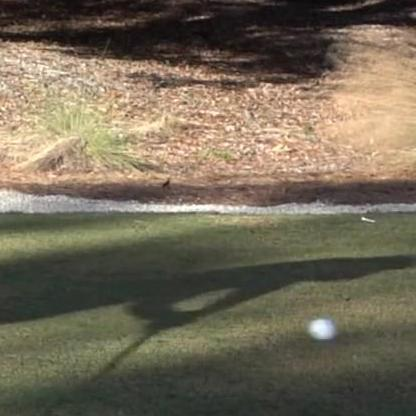golfball: (306, 316, 335, 340)
